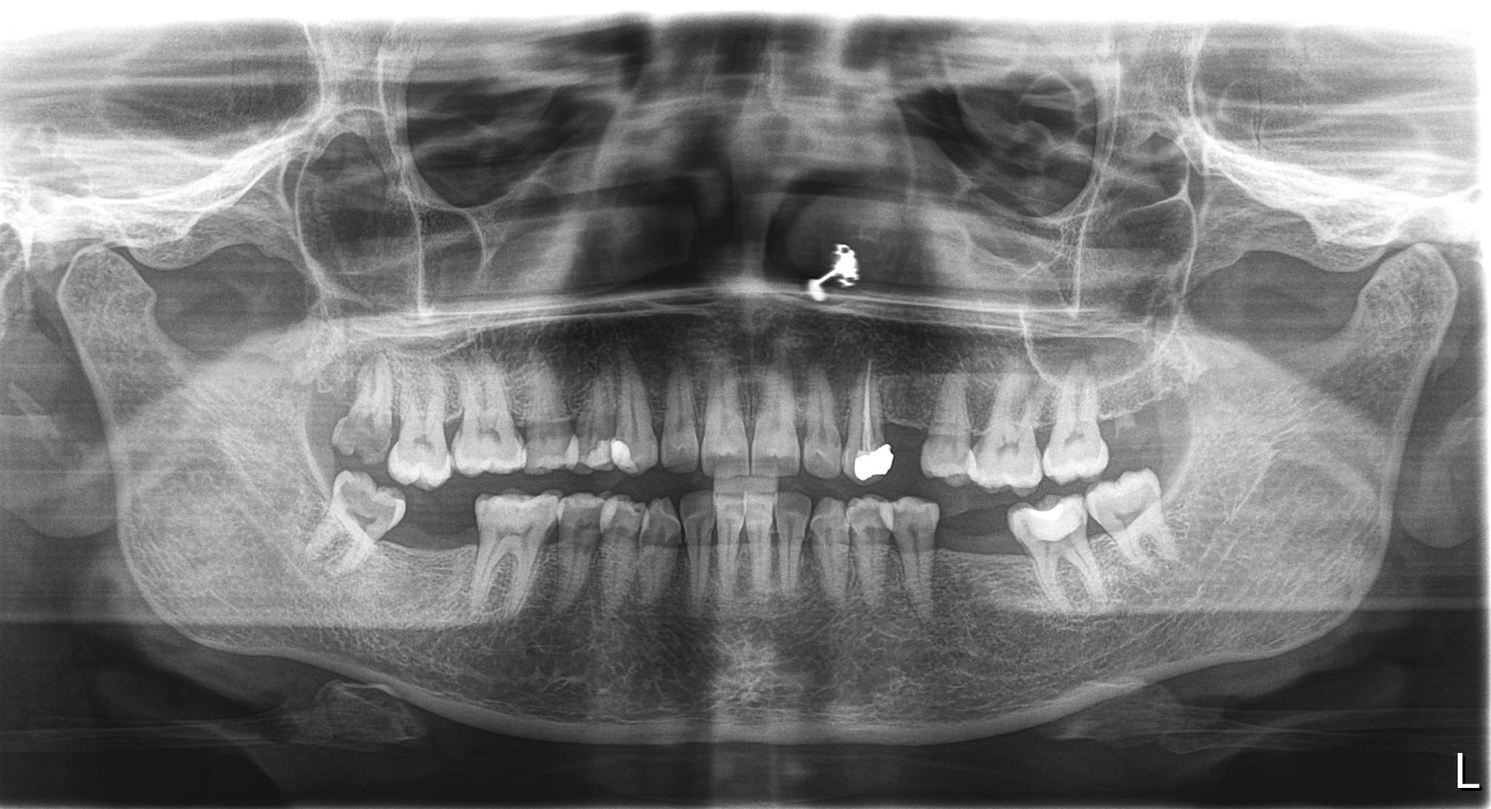Endodontically Treated Tooth: (850, 366, 886, 476)
Impacted Third Molar: (300, 475, 394, 574)
Missing Tooth: (936, 511, 1016, 616), (402, 511, 478, 599), (1102, 389, 1180, 465), (892, 389, 930, 478), (306, 367, 340, 456)
